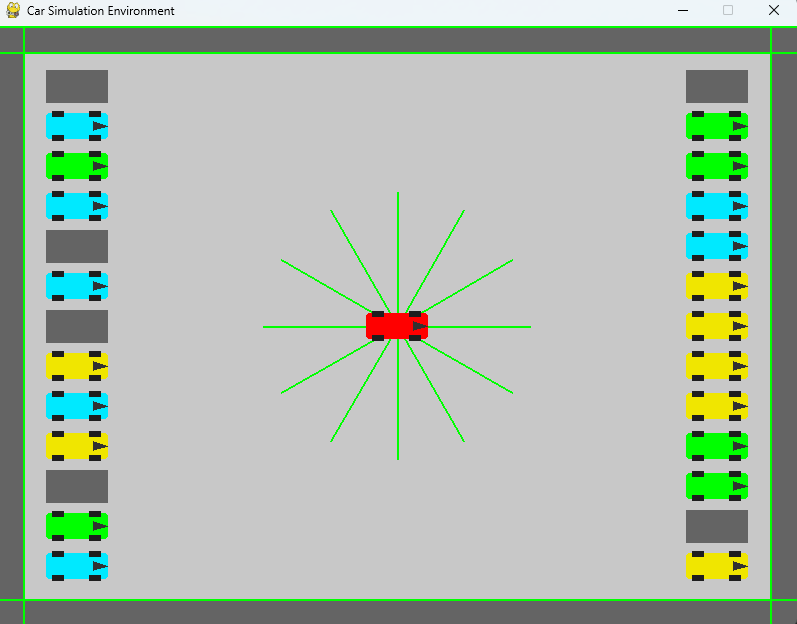ControlledCar: (351, 303, 447, 352)
ParkedCar: (40, 265, 114, 306), (39, 104, 114, 144), (44, 426, 114, 468), (685, 543, 755, 585), (681, 265, 752, 305), (684, 466, 752, 507), (44, 507, 111, 547), (678, 348, 752, 384), (679, 428, 750, 465), (44, 347, 110, 386), (684, 307, 748, 347), (683, 151, 755, 185), (682, 386, 748, 422), (44, 549, 111, 584), (44, 150, 110, 185), (37, 190, 112, 220), (42, 389, 112, 421), (682, 190, 749, 222), (681, 229, 748, 260), (684, 111, 748, 143)
ParkingSpot: (671, 62, 755, 108), (39, 64, 119, 105), (39, 304, 117, 345), (40, 465, 116, 507), (682, 504, 756, 547), (43, 225, 114, 265)
